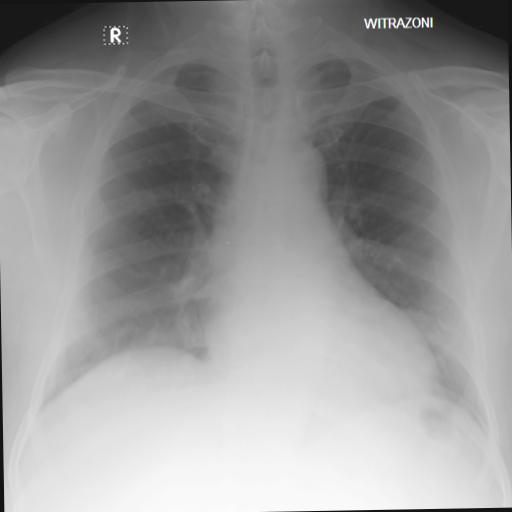kardiomegali: (10, 27, 496, 456)
